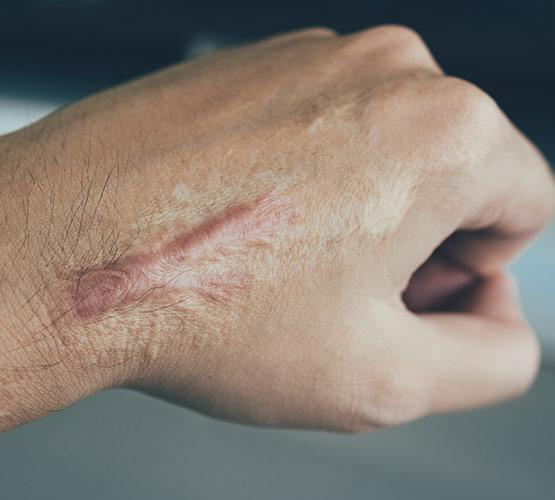burned-skin: (41, 144, 332, 358)
